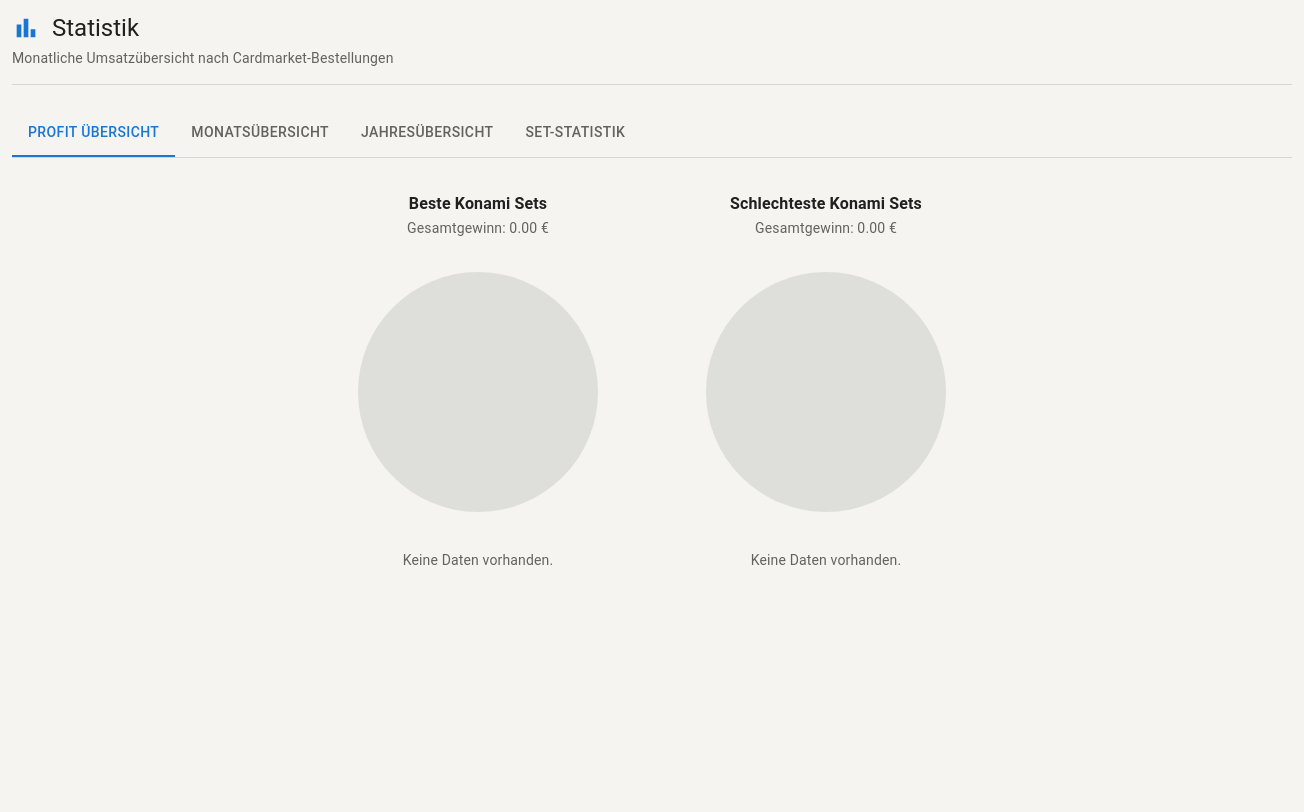
Test: Statistik › Set-Statistik tab shows "-" for both columns when no purchase invoices exist at all
What coordinates should you click on to do the following:
click the tab "Set-Statistik"
I would click on:
 (575, 133)
Its box is [510,109,641,157].
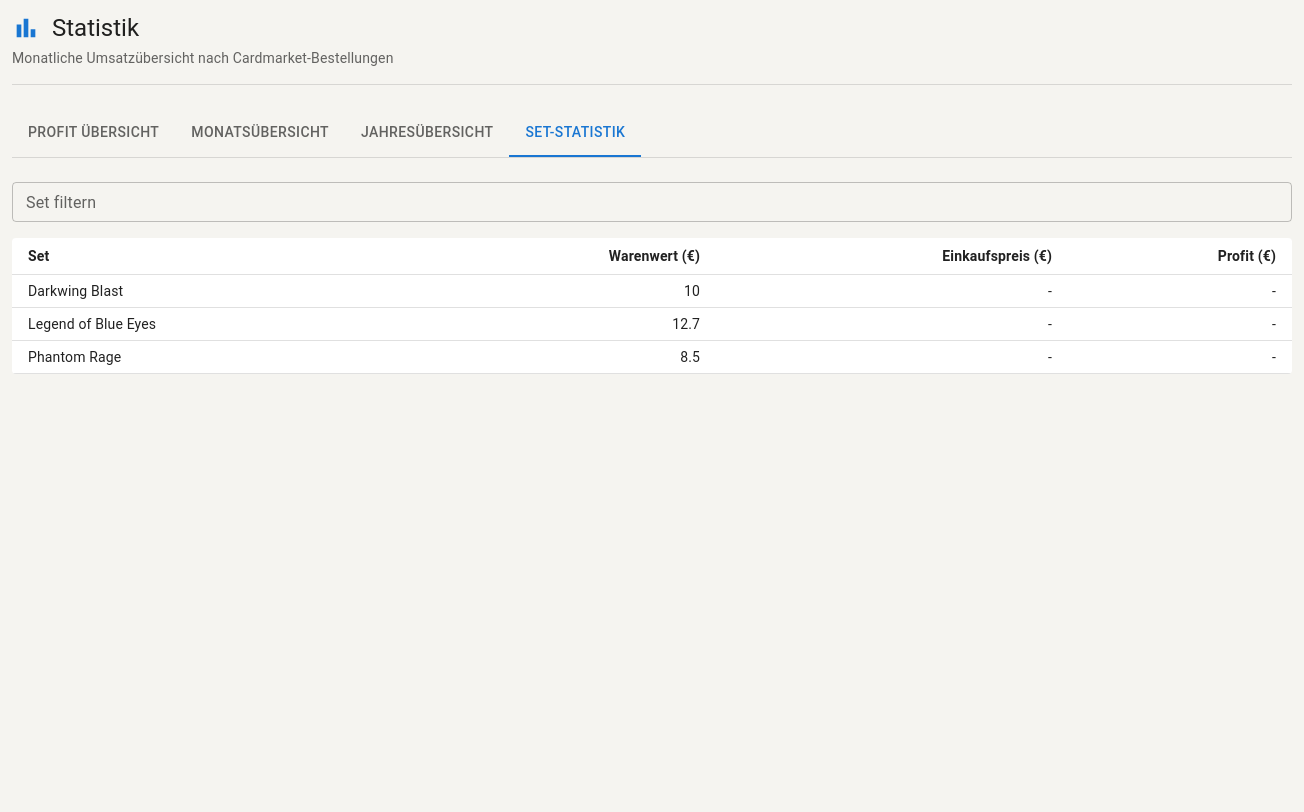
Expected: the text "-" is shown 6 times, [716,274,1068,308]; [1068,274,1292,308]; [716,308,1068,340]; [1068,308,1292,340]; [716,341,1068,374]; [1068,341,1292,374]
